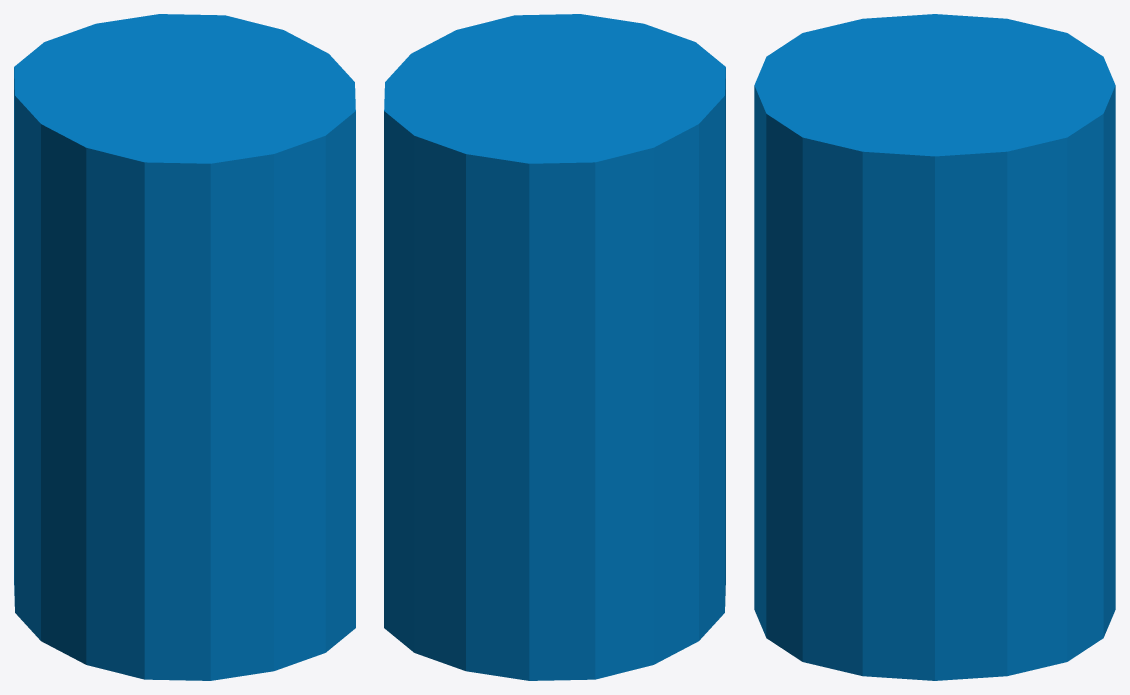
File: blue_cone.dae
The picture shows the model from 3 angles, left to right: view 1: azimuth 30°, elevation 25°; view 2: azimuth 150°, elevation 25°; view 3: azimuth 270°, elevation 25°; orthographic projection.
Parts seen in each view (by area): view 1: Plane; view 2: Plane; view 3: Plane.
Boxes of the visible parts, left/top/right/bottom form: Plane: left=14, top=14, right=355, bottom=680; Plane: left=384, top=14, right=725, bottom=680; Plane: left=754, top=14, right=1115, bottom=680.
Size of the model in its own units: 0.6562 by 0.7031 by 1.13.
